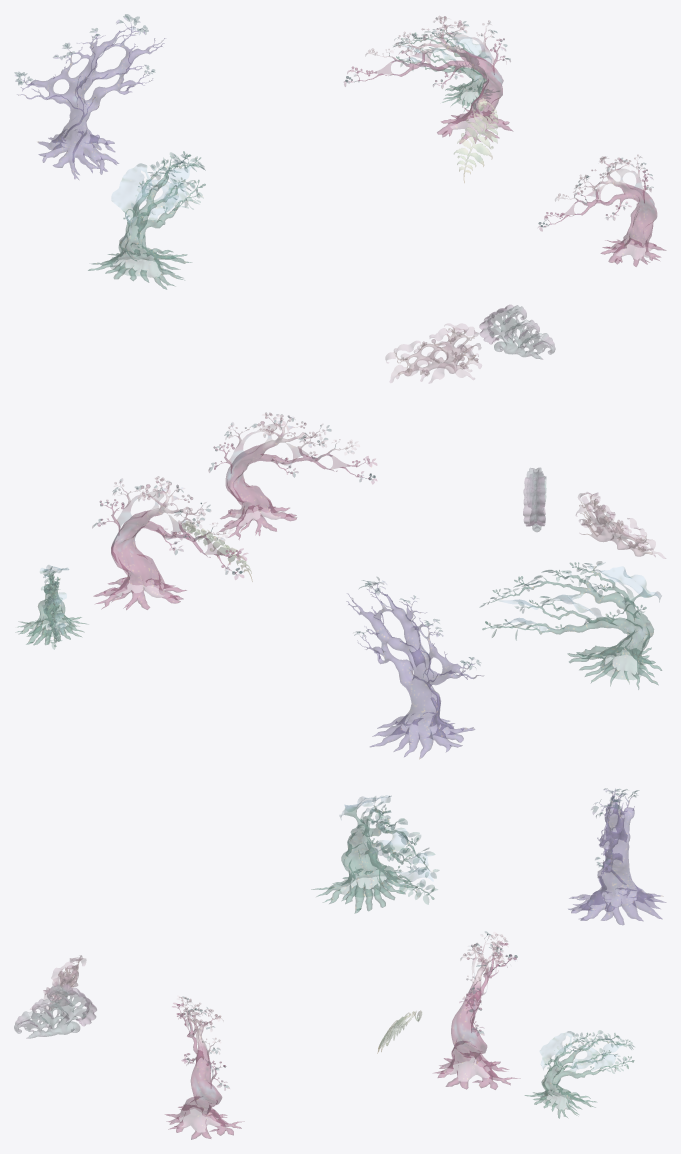
The model's file is Selected-8-Models-PBR.glb.
3 views of the same model, one above another, from view 1: azimuth 30°, elevation 25°; view 2: azimuth 150°, elevation 25°; view 3: azimuth 270°, elevation 25° (orthographic). The views are drawn at different scales.
Visible parts, largest first — view 1: Tree / windswept, Tree / filigree, Tree / blossom-arch, V17 foreground arch 2, NEW V18 / ribbon-shrub, V15 clustered tree 4 / windswept, V18 clustered growth 04 / spiral-fern, Organism / fern; view 2: Tree / windswept, Tree / filigree, Tree / blossom-arch, V17 foreground arch 2, NEW V18 / ribbon-shrub, V15 clustered tree 4 / windswept, V18 clustered growth 04 / spiral-fern, Organism / fern; view 3: Tree / windswept, Tree / filigree, Tree / blossom-arch, V17 foreground arch 2, V15 clustered tree 4 / windswept, V18 clustered growth 04 / spiral-fern, NEW V18 / ribbon-shrub.
Part boxes in pixels (x1,y1,x2,y2): Tree / windswept: (88, 151, 205, 289); Tree / filigree: (15, 14, 165, 179); Tree / blossom-arch: (344, 16, 512, 143); V17 foreground arch 2: (538, 154, 665, 266); NEW V18 / ribbon-shrub: (385, 323, 481, 383); V15 clustered tree 4 / windswept: (393, 29, 499, 110); V18 clustered growth 04 / spiral-fern: (479, 305, 555, 359); Organism / fern: (454, 98, 498, 182); Tree / windswept: (479, 561, 661, 689); Tree / filigree: (346, 577, 482, 758); Tree / blossom-arch: (92, 476, 247, 609); V17 foreground arch 2: (208, 412, 376, 539); NEW V18 / ribbon-shrub: (576, 492, 665, 558); V15 clustered tree 4 / windswept: (17, 565, 86, 649); V18 clustered growth 04 / spiral-fern: (523, 467, 546, 531); Organism / fern: (181, 520, 252, 581); Tree / windswept: (312, 795, 438, 913); Tree / filigree: (568, 788, 665, 924); Tree / blossom-arch: (435, 931, 517, 1089); V17 foreground arch 2: (165, 996, 241, 1139); V15 clustered tree 4 / windswept: (525, 1030, 634, 1118); V18 clustered growth 04 / spiral-fern: (14, 984, 96, 1038); NEW V18 / ribbon-shrub: (30, 955, 86, 1010).
Bounding box in the file's own units: 21.45 × 7.17 × 23.56.
Materials: 8 (8 with a texture image).
